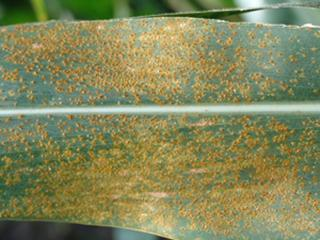Corn rust leaf: (1, 2, 318, 240)
